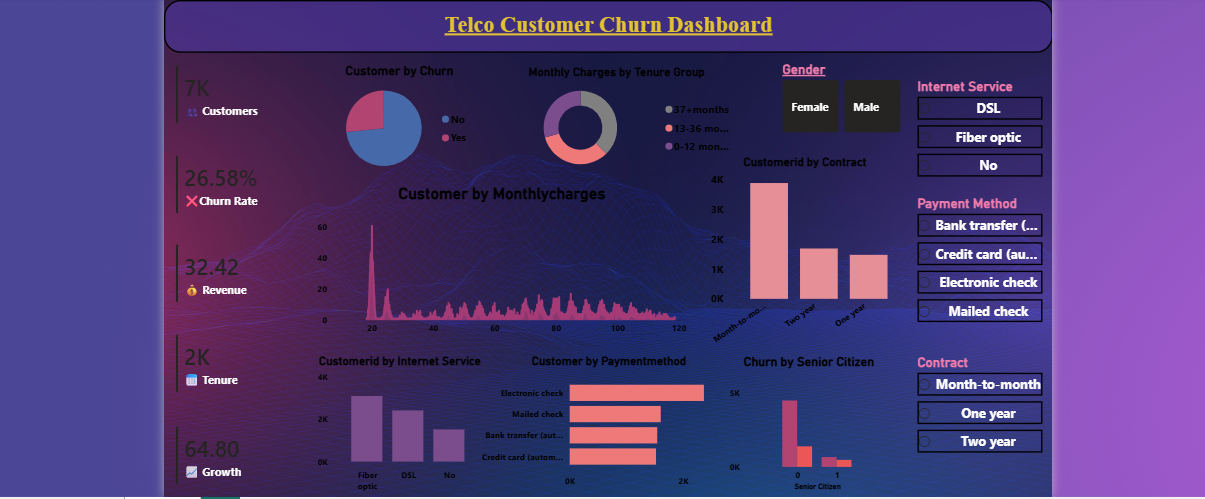

The dashboard page shown, as its layout file describes it:
{"tool":"powerbi","page":{"name":"Page 1","canvas":[1280,720],"ordinal":0},"visuals":[{"type":"pieChart","title":"Customer by Churn","fields":{"Category":["Telco_Customer.churn"],"Y":["CountNonNull(Telco_Customer.customerid)"]},"box":[229,95,220.3,167],"z":0},{"type":"cardVisual","fields":{"Data":["Telco_Customer.Total Churn Customer"]},"box":[0,468,203,119.5],"z":1000},{"type":"cardVisual","fields":{"Data":["Telco_Customer.Churn Rate"]},"box":[0,210.2,203,119.5],"z":2000},{"type":"textbox","box":[0,4.4,1280.5,76.1],"z":3000},{"type":"advancedSlicerVisual","title":"Gender","fields":{"Values":["Telco_Customer.gender"]},"box":[885.6,92.2,181.4,108],"z":4000},{"type":"clusteredColumnChart","title":"Customerid by Contract","fields":{"Category":["Telco_Customer.contract"],"Y":["CountNonNull(Telco_Customer.customerid)"]},"box":[767.5,227.5,311,285.1],"z":5000},{"type":"barChart","title":"Customer by Paymentmethod","fields":{"Category":["Telco_Customer.paymentmethod"],"Y":["CountNonNull(Telco_Customer.customerid)"]},"box":[439.2,514.1,403.2,201.6],"z":6000},{"type":"columnChart","title":"Customerid by Internet Service","fields":{"Category":["Telco_Customer.internetservice"],"Y":["CountNonNull(Telco_Customer.customerid)"]},"box":[216,514.1,247.7,205.9],"z":7000},{"type":"lineChart","title":"Customer by Monthlycharges","fields":{"Category":["Telco_Customer.monthlycharges"],"Y":["Count(Telco_Customer.customerid)"]},"box":[216,269.3,541.4,226.1],"z":8000},{"type":"donutChart","title":"Monthly Charges by Tenure Group","fields":{"Category":["Telco_Customer.Tenure Group"],"Y":["Telco_Customer.Avg Monthly Charges"]},"box":[473.8,97.9,355.7,161.3],"z":9000},{"type":"listSlicer","title":"Internet Service","fields":{"Values":["Telco_Customer.internetservice"]},"box":[1080,116.6,190.1,152.6],"z":10000},{"type":"cardVisual","fields":{"Data":["Telco_Customer.Avg Monthly Charges"]},"box":[0,600.5,203,119.5],"z":11000},{"type":"cardVisual","fields":{"Data":["Telco_Customer.Average Tenure"]},"box":[0,338.4,203,119.5],"z":12000},{"type":"cardVisual","fields":{"Data":["Telco_Customer.Total Customer"]},"box":[0,80.6,203,119.5],"z":13000},{"type":"listSlicer","title":"Payment Method","fields":{"Values":["Telco_Customer.paymentmethod"]},"box":[1080,285.1,190.1,194.4],"z":14000},{"type":"listSlicer","title":"Contract","fields":{"Values":["Telco_Customer.contract"]},"box":[1080,514.1,190.1,194.4],"z":15000},{"type":"clusteredColumnChart","title":"Churn by Senior Citizen","fields":{"Category":["Telco_Customer.seniorcitizen"],"Y":["CountNonNull(Telco_Customer.customerid)"],"Series":["Telco_Customer.churn"]},"box":[809.3,514.1,239,201.6],"z":16000}]}

Visuals, with their boxes on the page's 1280x720 design canvas (x1, y1, x2, y2). These are canvas units, not pixel positions in the 1205x499 screenshot, which may show the page scaled, cropped or inside an application window:
"Customer by Churn" pieChart: crop(229, 95, 449, 262)
cardVisual - Telco_Customer.Total Churn Customer: crop(0, 468, 203, 588)
cardVisual - Telco_Customer.Churn Rate: crop(0, 210, 203, 330)
textbox: crop(0, 4, 1280, 80)
"Gender" advancedSlicerVisual: crop(886, 92, 1067, 200)
"Customerid by Contract" clusteredColumnChart: crop(768, 228, 1078, 513)
"Customer by Paymentmethod" barChart: crop(439, 514, 842, 716)
"Customerid by Internet Service" columnChart: crop(216, 514, 464, 720)
"Customer by Monthlycharges" lineChart: crop(216, 269, 757, 495)
"Monthly Charges by Tenure Group" donutChart: crop(474, 98, 830, 259)
"Internet Service" listSlicer: crop(1080, 117, 1270, 269)
cardVisual - Telco_Customer.Avg Monthly Charges: crop(0, 600, 203, 720)
cardVisual - Telco_Customer.Average Tenure: crop(0, 338, 203, 458)
cardVisual - Telco_Customer.Total Customer: crop(0, 81, 203, 200)
"Payment Method" listSlicer: crop(1080, 285, 1270, 480)
"Contract" listSlicer: crop(1080, 514, 1270, 708)
"Churn by Senior Citizen" clusteredColumnChart: crop(809, 514, 1048, 716)
